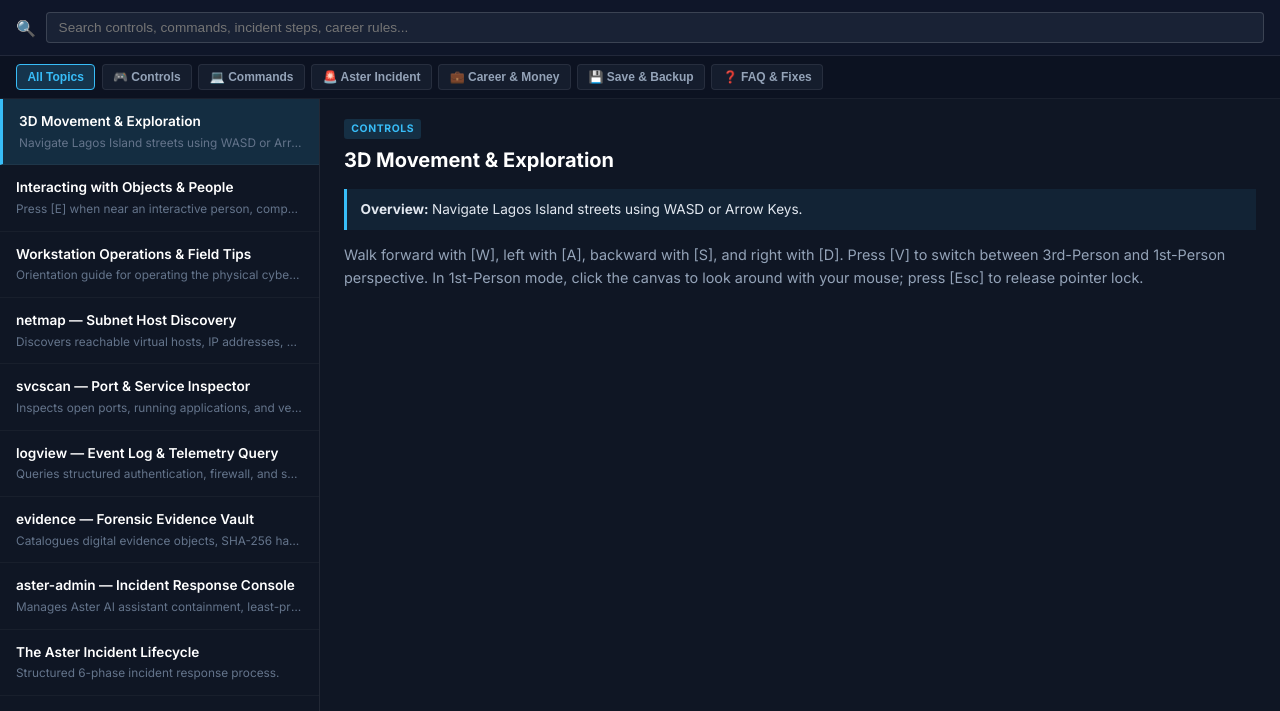
Test: HelpCenterApp Component › navigates between help categories
Click the tab with test id "help-cat-career". click: (505, 77)
box: left=438, top=64, right=571, bottom=90
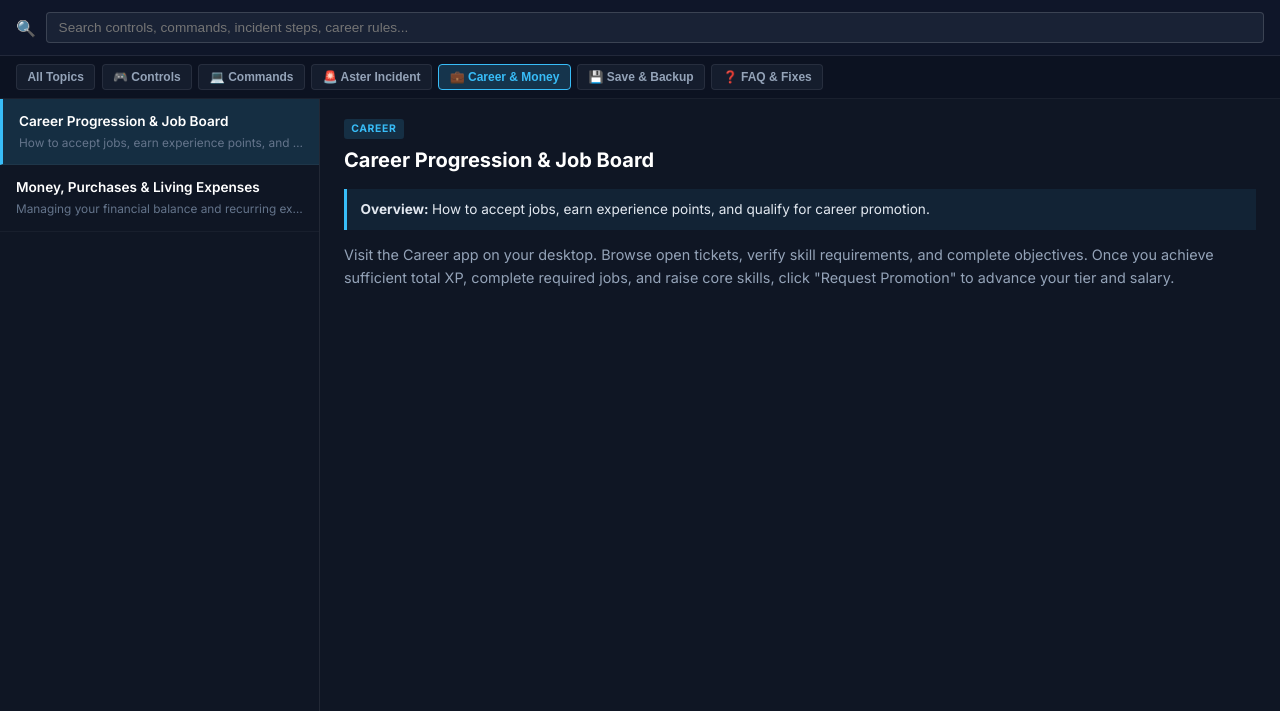
Expected: the text "Career Progression & Job Board" is shown, left=19, top=113, right=228, bottom=129
Expected: the text "Money, Purchases & Living Expenses" is shown, left=16, top=179, right=260, bottom=195
Click the tab with test id "help-cat-persistence". click: (641, 77)
box: left=577, top=64, right=705, bottom=90
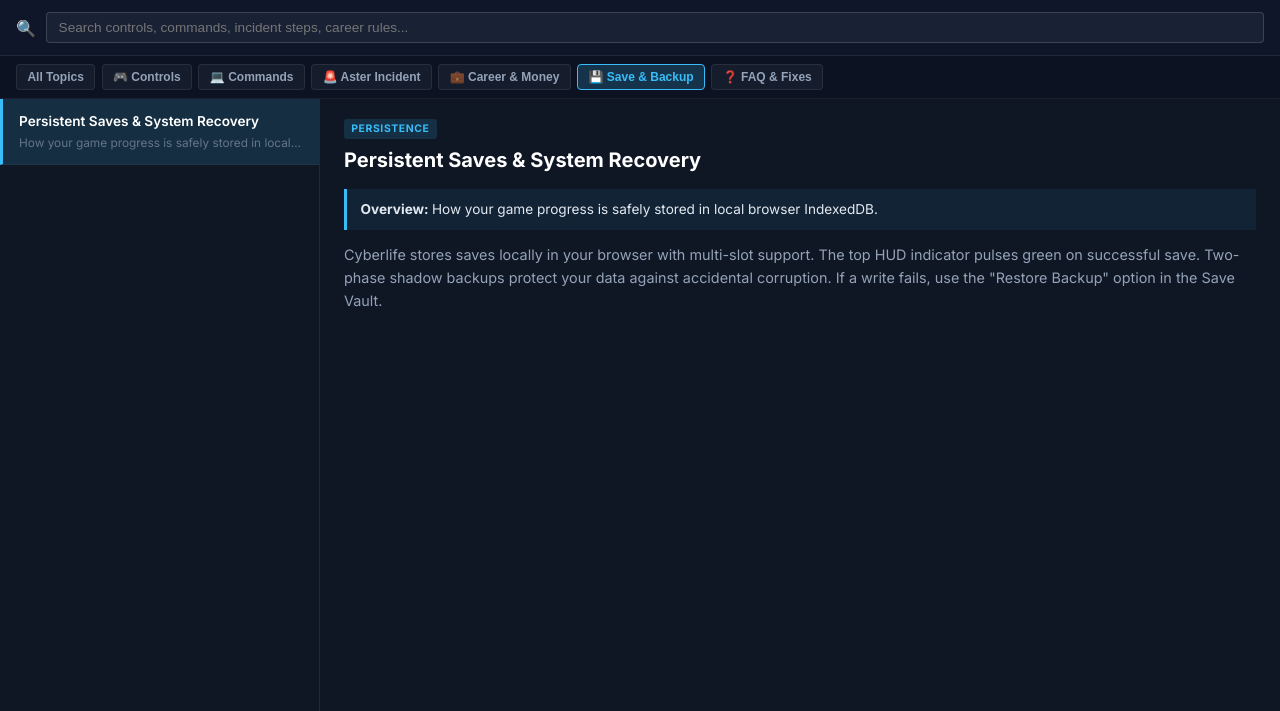
Expected: the text "Persistent Saves & System Recovery" is shown, left=19, top=113, right=259, bottom=129
